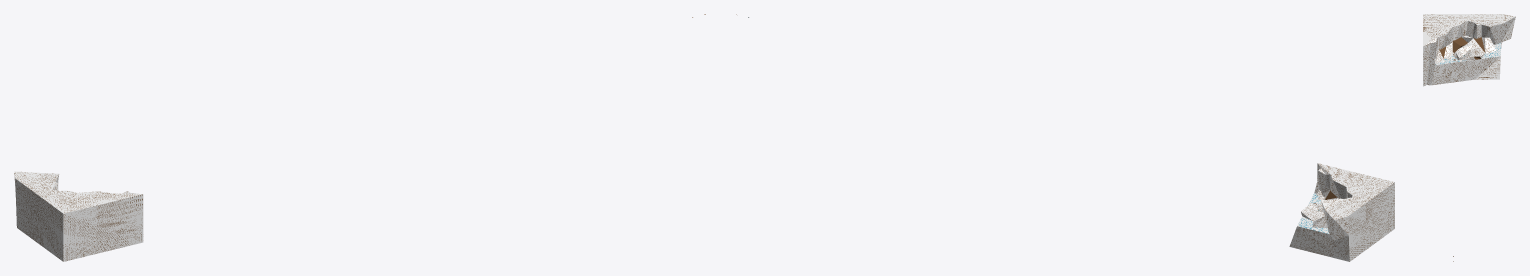
File: 岩石展台.obj
3 renders of one model, left to right at view 1: azimuth 30°, elevation 25°; view 2: azimuth 150°, elevation 25°; view 3: azimuth 270°, elevation 25°, orthographic. The views are drawn at different scales.
Parts seen in each view (by area): view 1: SketchUp; view 2: SketchUp; view 3: SketchUp.
Boxes of the visible parts, bbox=[...] form: SketchUp: bbox=[14, 171, 143, 261]; SketchUp: bbox=[1289, 163, 1394, 261]; SketchUp: bbox=[1423, 14, 1515, 86].
Bounding box in the file's own units: 1.41 × 0.1501 × 0.2059.
